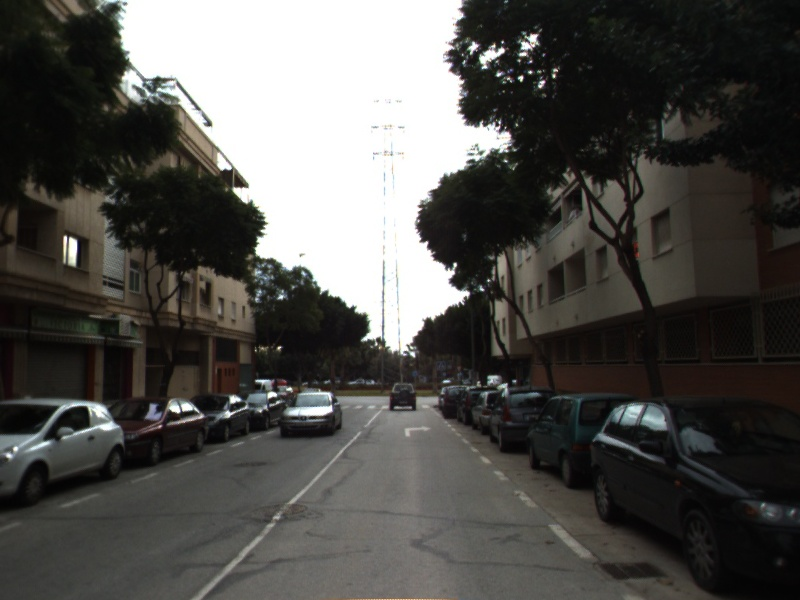RIGHT: (401, 423, 434, 439)
